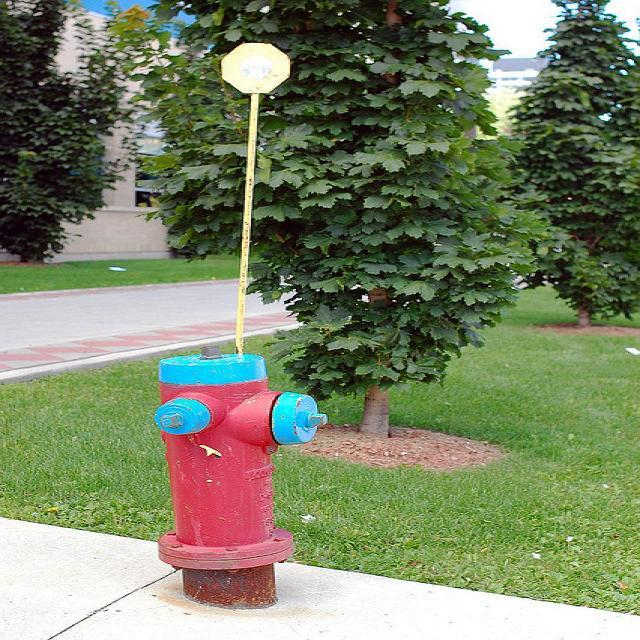fire_hydrant: (148, 352, 328, 609)
